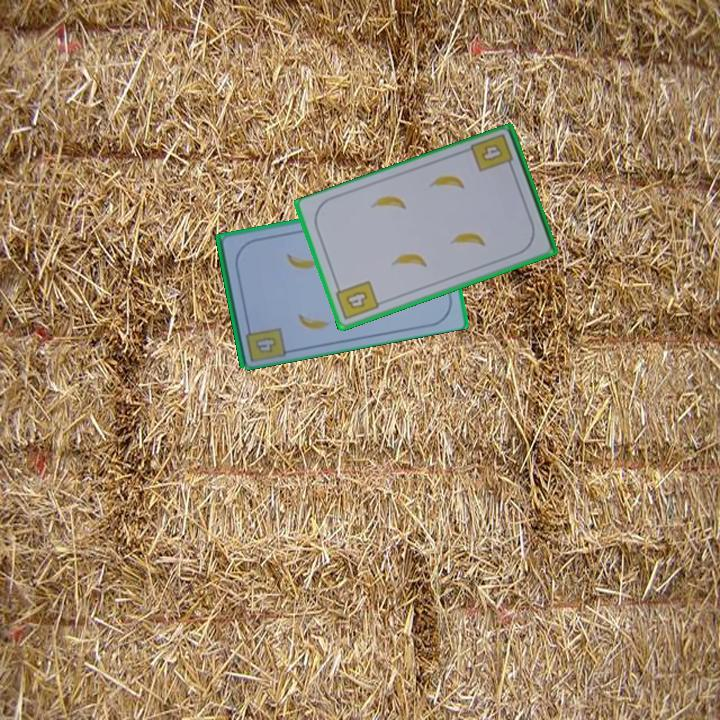4b: (332, 277, 382, 323), (467, 130, 516, 175), (252, 333, 280, 356)
